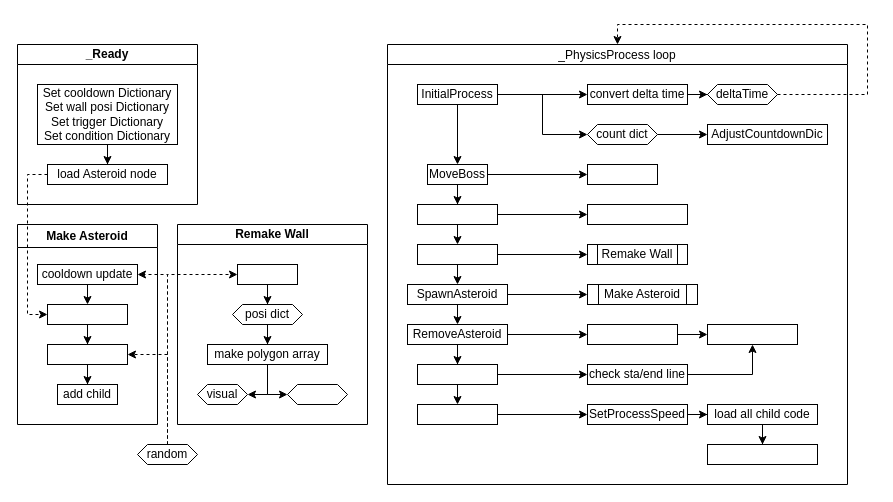
Image size: 893x502. Some labels were removed from this diagram. Here are the shapes that lost their labels. From the top down, the centre of each, then its label:
At (x=622, y=174): "boss move".
At (x=457, y=214): "MoveLeftArea".
At (x=637, y=214): "playground move".
At (x=267, y=274): "cal next X".
At (x=457, y=254): "SpawnWall".
At (x=87, y=314): "prepare node".
At (x=632, y=334): "check end line".
At (x=752, y=334): "delete object".
At (x=87, y=354): "set position".
At (x=457, y=374): "RemoveBullet".
At (x=317, y=394): "collision".
At (x=457, y=414): "PauseProcess".
At (x=762, y=454): "SpeedProcess = 0".
